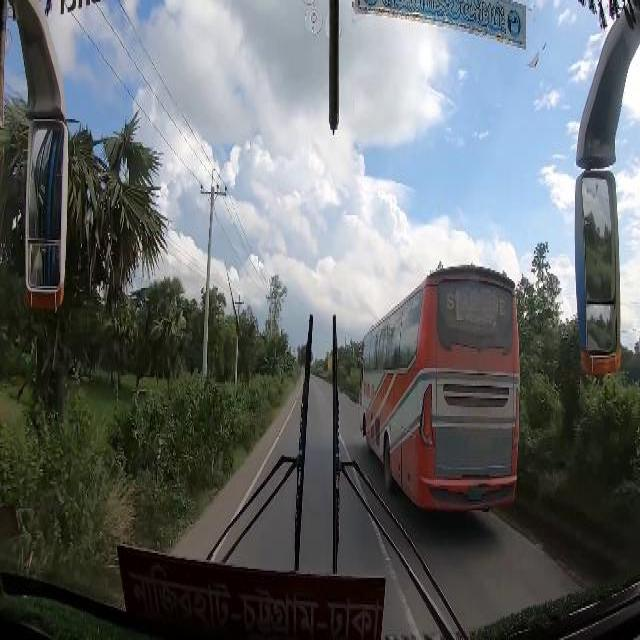bus: (356, 261, 520, 507)
